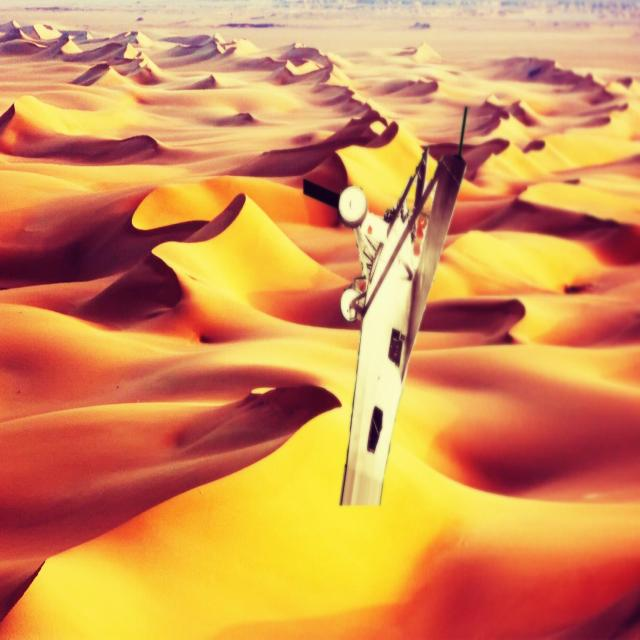airplane: (302, 144, 467, 506)
